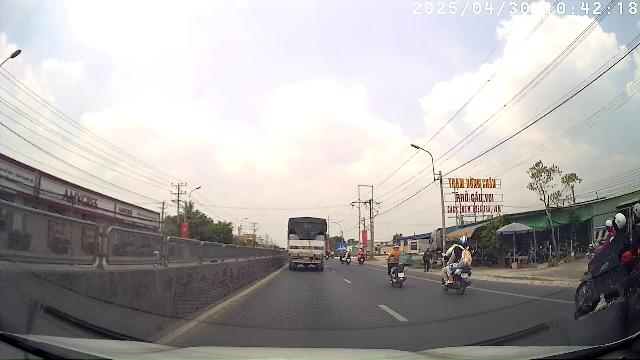420-bat-dau-khu-dong-dan-cu: (337, 244, 347, 251)
